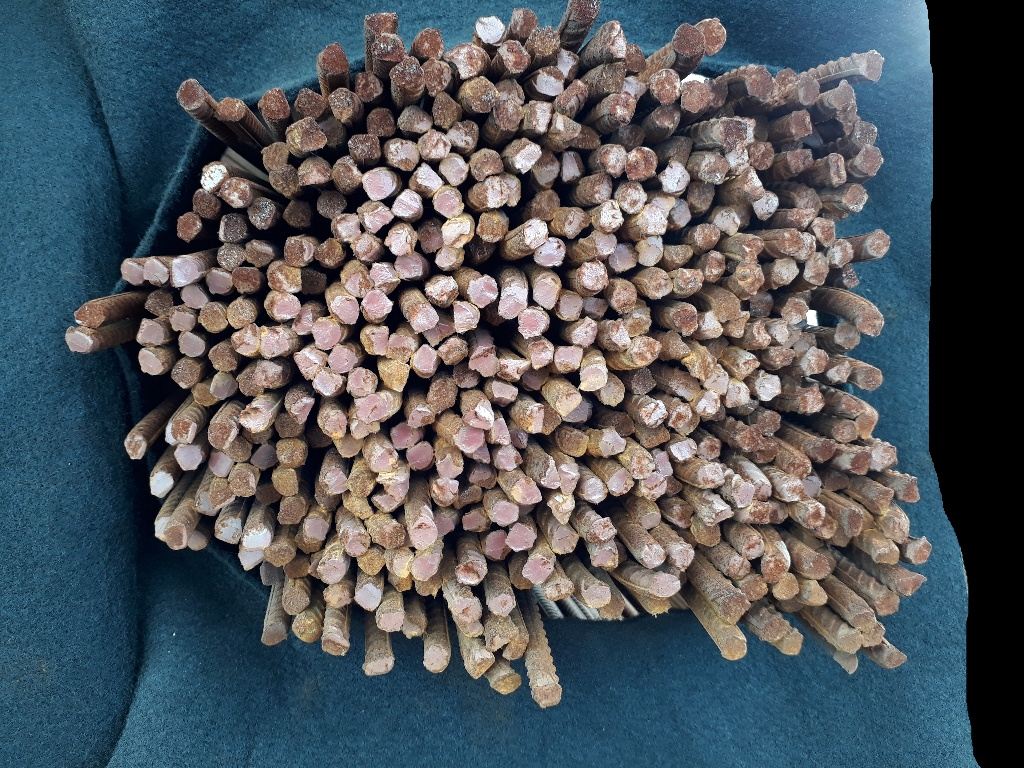dipstick: (443, 44, 489, 79), (283, 118, 328, 152), (541, 380, 582, 417), (729, 261, 766, 299), (553, 84, 590, 122), (460, 79, 502, 112), (406, 161, 445, 196), (722, 345, 761, 379), (613, 179, 648, 214), (671, 23, 705, 59), (465, 274, 501, 308), (328, 88, 361, 125), (625, 145, 657, 183), (650, 70, 684, 105), (496, 39, 530, 74), (328, 294, 363, 328), (363, 166, 397, 201), (657, 160, 690, 196), (388, 57, 424, 90), (260, 86, 293, 122), (467, 148, 504, 180), (429, 91, 461, 128), (310, 317, 344, 351), (532, 64, 565, 99), (485, 617, 520, 650), (879, 506, 911, 542), (361, 168, 398, 199), (357, 201, 395, 231), (694, 21, 727, 55), (595, 144, 628, 178), (619, 301, 651, 336), (474, 177, 509, 209), (421, 57, 453, 92), (316, 42, 351, 74), (260, 325, 292, 360), (330, 425, 365, 457), (438, 151, 469, 187), (385, 139, 421, 170), (296, 157, 333, 187), (716, 592, 749, 625), (597, 319, 630, 352), (293, 86, 326, 119), (696, 152, 730, 184), (668, 401, 700, 435), (658, 330, 690, 364), (659, 134, 693, 166), (384, 222, 418, 254), (390, 188, 424, 220), (333, 157, 365, 191), (270, 260, 302, 294), (371, 32, 407, 62), (170, 441, 206, 471), (395, 105, 433, 133), (629, 334, 662, 366), (522, 101, 554, 134), (491, 100, 524, 132), (413, 29, 445, 62), (245, 197, 277, 230), (668, 302, 699, 336), (608, 278, 638, 313), (510, 139, 540, 174), (218, 178, 253, 208), (350, 233, 386, 262), (602, 21, 629, 59), (852, 144, 884, 176), (576, 263, 608, 295), (360, 325, 392, 357), (137, 254, 169, 286), (426, 380, 459, 411), (378, 360, 409, 393), (331, 213, 364, 244), (231, 323, 262, 356), (225, 298, 258, 329), (710, 291, 744, 321), (683, 347, 717, 377), (528, 26, 562, 56), (431, 186, 465, 216), (446, 120, 480, 150), (266, 168, 300, 198), (686, 180, 715, 215), (546, 113, 581, 142), (416, 131, 452, 159), (494, 354, 531, 381), (733, 232, 764, 264), (641, 268, 672, 300), (552, 290, 584, 321), (559, 208, 591, 239), (270, 291, 302, 322), (360, 290, 393, 320), (315, 407, 348, 437), (169, 256, 202, 286), (680, 81, 709, 115), (389, 423, 424, 451), (424, 275, 459, 303), (346, 133, 381, 161), (352, 70, 383, 101), (346, 367, 377, 398), (227, 465, 258, 496), (760, 553, 790, 585), (564, 319, 596, 349), (531, 279, 561, 311), (529, 190, 561, 220), (531, 154, 561, 186), (261, 141, 291, 173), (473, 15, 506, 44), (517, 310, 550, 339), (547, 493, 576, 526), (214, 96, 247, 125), (215, 215, 248, 244), (828, 78, 856, 112), (585, 518, 619, 546), (504, 523, 538, 551), (700, 250, 727, 285), (530, 240, 565, 267), (671, 267, 702, 297), (607, 242, 638, 272), (176, 79, 206, 110), (410, 346, 439, 378), (274, 496, 306, 525), (803, 253, 831, 286), (580, 174, 613, 202), (496, 291, 529, 319), (467, 349, 501, 376), (807, 217, 837, 247), (667, 435, 697, 465), (639, 204, 669, 234), (282, 198, 312, 228), (236, 366, 266, 396), (773, 227, 804, 256), (745, 66, 774, 97), (607, 91, 636, 122), (384, 548, 415, 577), (408, 303, 439, 332), (285, 236, 314, 267), (423, 318, 455, 346), (441, 216, 473, 244), (477, 212, 505, 244), (326, 343, 358, 371), (316, 190, 348, 218), (852, 404, 879, 437), (453, 302, 480, 335), (293, 347, 320, 380), (229, 267, 262, 294), (485, 380, 519, 406), (454, 557, 488, 583), (312, 369, 346, 395), (825, 239, 854, 269), (799, 346, 828, 376), (725, 117, 755, 146), (692, 221, 722, 250), (634, 238, 664, 267), (365, 108, 395, 137), (316, 238, 345, 268), (291, 613, 321, 642), (245, 239, 275, 268), (205, 420, 235, 449), (167, 418, 197, 447), (208, 452, 238, 481), (834, 320, 862, 351), (866, 485, 894, 516), (797, 579, 828, 607), (198, 303, 229, 331), (800, 383, 827, 415), (463, 403, 495, 430), (353, 583, 385, 610), (314, 479, 340, 512), (701, 366, 730, 395), (870, 441, 898, 471), (636, 424, 671, 448), (439, 337, 469, 365), (320, 466, 348, 496), (254, 359, 284, 387), (895, 473, 922, 504), (571, 125, 602, 152), (454, 425, 485, 452), (896, 571, 928, 597), (620, 42, 646, 74), (494, 79, 526, 105), (762, 346, 795, 371), (537, 457, 562, 490), (510, 479, 543, 504), (355, 550, 388, 575), (364, 10, 398, 34), (856, 309, 885, 337), (753, 373, 781, 402), (712, 208, 741, 236), (694, 519, 722, 548), (671, 373, 700, 401), (652, 105, 680, 134), (598, 428, 627, 456), (607, 468, 635, 497), (590, 542, 619, 570), (408, 521, 437, 549), (281, 587, 310, 615), (723, 379, 750, 409), (692, 389, 722, 416), (599, 377, 626, 407), (527, 340, 554, 370), (522, 220, 549, 250), (341, 529, 371, 556), (192, 187, 219, 217), (207, 343, 237, 370), (795, 76, 821, 107), (865, 228, 891, 259), (870, 541, 901, 567), (741, 168, 767, 199), (490, 500, 521, 526), (465, 653, 496, 679), (408, 556, 439, 582), (385, 334, 416, 360), (272, 467, 298, 498), (602, 61, 627, 93), (343, 272, 375, 297), (130, 350, 162, 375), (262, 543, 295, 567), (752, 192, 780, 220), (771, 573, 799, 601), (639, 399, 667, 427), (517, 405, 545, 433), (407, 442, 435, 470), (209, 370, 237, 398), (190, 379, 218, 407), (836, 393, 865, 420), (905, 536, 932, 565), (836, 626, 863, 655), (781, 297, 810, 324), (742, 321, 771, 348), (800, 500, 827, 529), (666, 501, 695, 528), (276, 440, 305, 467), (852, 120, 878, 150), (801, 553, 831, 579), (588, 231, 618, 257), (511, 9, 537, 39), (523, 556, 553, 582), (370, 263, 400, 289), (172, 360, 198, 390), (249, 444, 279, 470), (788, 109, 813, 140), (451, 597, 482, 622), (175, 213, 206, 238), (555, 48, 579, 80), (749, 142, 776, 170), (776, 477, 804, 504), (740, 574, 768, 601), (628, 452, 655, 480), (554, 345, 581, 373), (485, 531, 512, 559), (436, 453, 464, 480), (432, 481, 459, 509), (423, 645, 450, 673), (842, 182, 868, 211), (725, 146, 751, 175), (703, 499, 732, 525), (598, 201, 624, 230), (503, 632, 529, 661), (205, 268, 234, 294), (793, 187, 823, 212), (726, 309, 751, 339), (669, 543, 694, 573), (356, 396, 386, 421), (239, 406, 269, 431), (863, 50, 885, 84), (705, 77, 729, 108), (560, 152, 584, 183), (493, 446, 524, 470), (350, 413, 381, 437), (147, 292, 178, 316), (772, 260, 799, 287), (597, 593, 624, 620), (301, 516, 329, 542), (275, 413, 303, 439), (858, 364, 883, 393), (748, 291, 773, 320), (506, 422, 531, 451), (368, 447, 397, 472), (418, 222, 443, 251), (167, 306, 196, 331), (164, 519, 189, 548), (664, 242, 694, 266), (381, 470, 411, 494), (501, 171, 521, 207), (292, 531, 322, 555), (840, 506, 863, 537), (557, 464, 580, 495), (695, 436, 722, 462), (639, 474, 665, 501), (178, 332, 205, 358), (617, 123, 645, 148), (610, 411, 635, 439), (431, 510, 456, 538), (396, 251, 421, 279), (668, 199, 692, 228), (65, 328, 94, 352), (321, 632, 351, 655), (317, 559, 347, 582), (179, 286, 209, 309), (560, 400, 591, 422), (486, 594, 517, 616), (860, 622, 886, 648), (630, 369, 656, 395), (744, 501, 771, 526), (486, 419, 511, 446), (534, 684, 561, 709), (786, 149, 814, 173), (720, 636, 748, 660), (400, 614, 428, 638), (379, 524, 407, 548), (323, 583, 351, 607), (347, 471, 375, 495), (452, 365, 481, 388), (344, 495, 373, 518), (366, 650, 396, 672), (781, 626, 802, 657), (811, 437, 836, 463), (756, 411, 782, 436), (814, 515, 840, 540), (758, 617, 784, 642), (699, 464, 724, 490), (580, 366, 606, 391), (224, 436, 249, 462), (210, 478, 234, 505), (370, 492, 404, 511), (724, 557, 752, 580), (652, 574, 680, 597), (545, 579, 574, 601), (829, 152, 847, 187), (460, 511, 490, 532), (827, 359, 852, 384), (874, 591, 899, 616), (583, 478, 608, 503), (470, 328, 495, 353), (302, 269, 327, 294), (836, 110, 862, 134), (832, 419, 858, 443), (735, 426, 759, 452), (584, 584, 610, 608), (434, 247, 461, 270), (848, 610, 876, 632), (376, 609, 404, 631), (76, 303, 104, 325), (491, 675, 523, 694), (583, 294, 608, 318), (406, 406, 436, 426), (138, 319, 162, 344), (194, 489, 218, 514), (849, 449, 872, 475), (731, 483, 754, 509), (795, 233, 817, 260), (284, 556, 311, 578), (152, 471, 174, 498), (768, 318, 789, 346), (821, 470, 850, 490), (123, 432, 147, 456), (700, 312, 722, 338), (644, 594, 671, 615), (386, 571, 414, 591), (286, 390, 309, 414), (739, 538, 764, 560), (261, 624, 286, 646), (834, 652, 860, 673), (567, 1, 599, 18), (840, 263, 860, 290), (787, 456, 811, 478), (749, 479, 773, 501), (640, 546, 665, 567), (260, 562, 285, 583), (457, 487, 486, 505), (639, 507, 661, 530), (754, 443, 778, 464), (768, 499, 788, 524), (413, 578, 440, 596), (663, 474, 684, 497), (469, 470, 497, 487), (794, 208, 816, 229), (655, 452, 673, 477), (781, 325, 802, 346), (467, 447, 491, 465), (887, 649, 907, 670), (794, 333, 817, 350), (459, 621, 484, 636)
